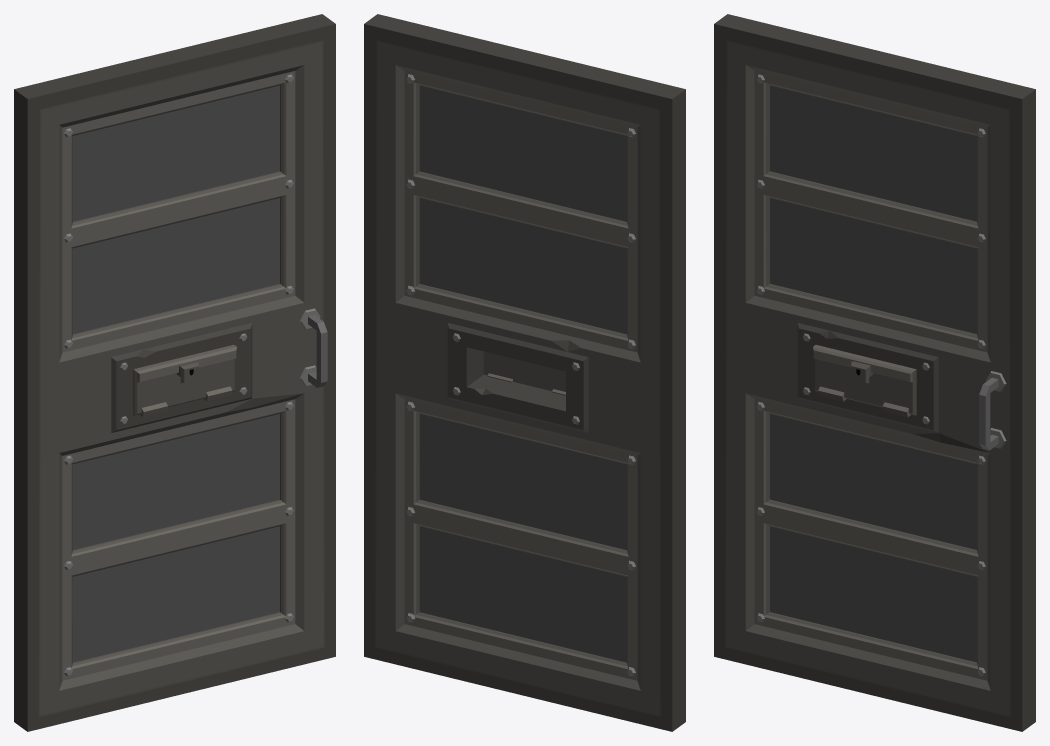
Rendered from SM_Bld_Door_03.fbx.
3 views of the same model, side by side, from view 1: azimuth 30°, elevation 25°; view 2: azimuth 150°, elevation 25°; view 3: azimuth 330°, elevation 25° (orthographic).
Visible parts, largest first — view 1: SM_Bld_Door_03; view 2: SM_Bld_Door_03; view 3: SM_Bld_Door_03.
Boxes of the visible parts, x1,y1,x2,y2 form: SM_Bld_Door_03: (14,14,335,731); SM_Bld_Door_03: (364,14,685,731); SM_Bld_Door_03: (714,14,1035,731).
Size of the model in its own units: 100 by 197 by 17.28.
